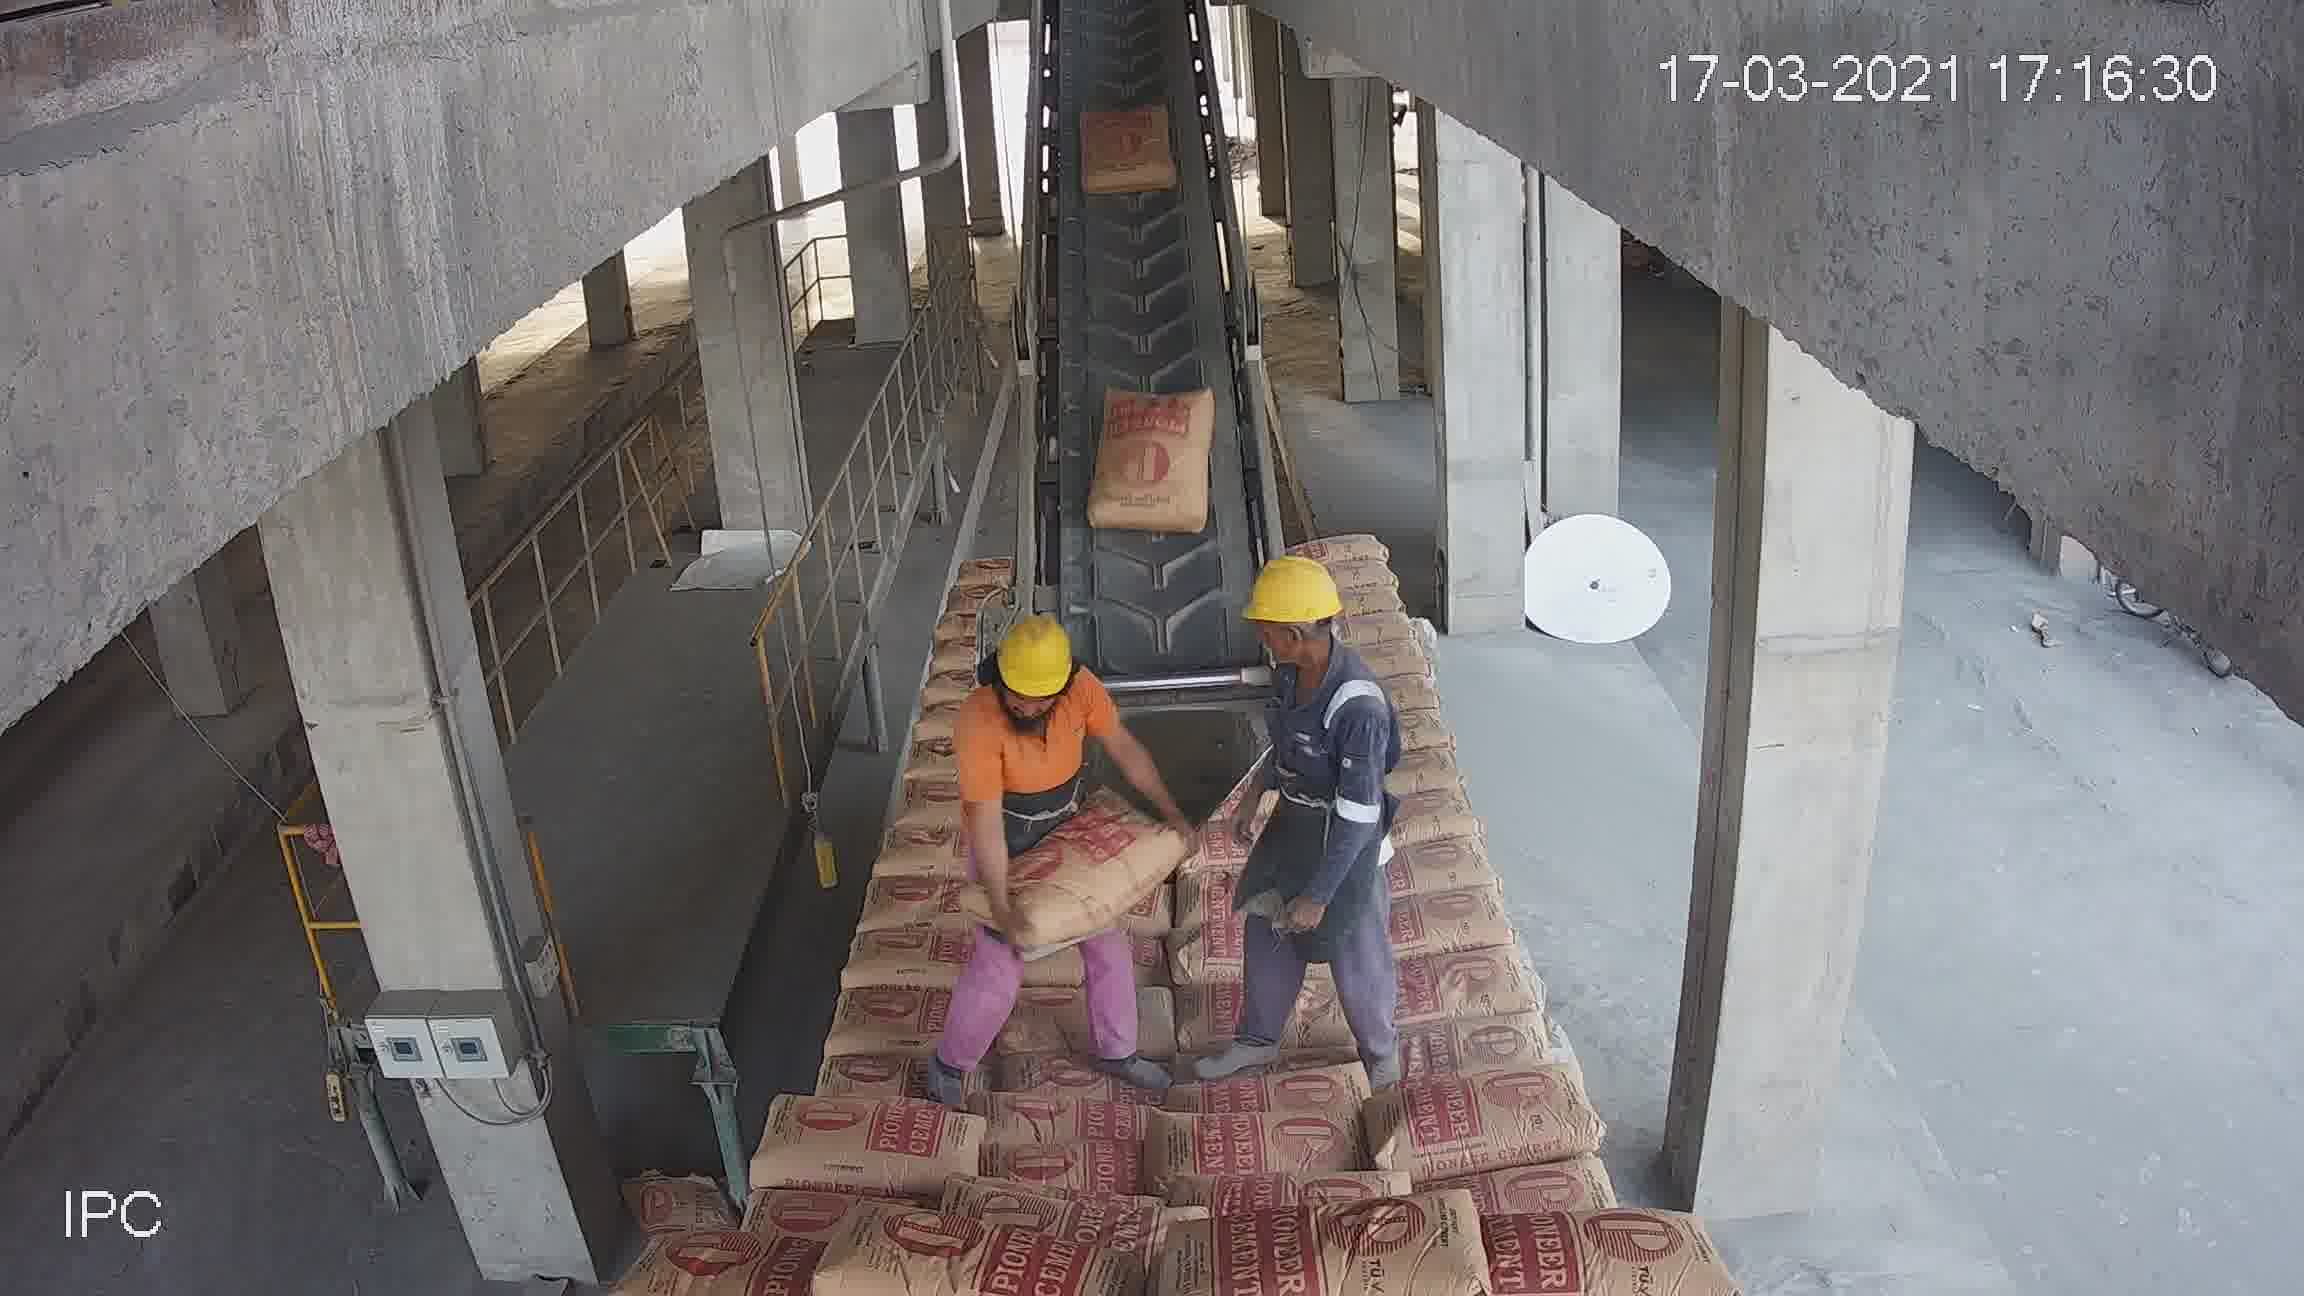bag: (1084, 396, 1215, 527), (1073, 100, 1184, 201)
bag_h: (1193, 1184, 1518, 1294), (975, 782, 1184, 948), (1348, 1060, 1605, 1187), (1427, 1196, 1707, 1294), (794, 1215, 1135, 1296), (748, 1097, 995, 1193), (1157, 1103, 1370, 1193), (1160, 1032, 1355, 1117), (635, 1225, 853, 1294), (1385, 946, 1540, 1038), (824, 923, 991, 995), (813, 987, 975, 1060), (1407, 1005, 1560, 1074), (981, 1097, 1150, 1157), (864, 820, 978, 897), (809, 1043, 956, 1101), (1397, 894, 1522, 962), (859, 875, 995, 935), (994, 1138, 1147, 1188), (1290, 532, 1402, 571), (1313, 557, 1415, 597)
belt: (1003, 24, 1287, 767)
